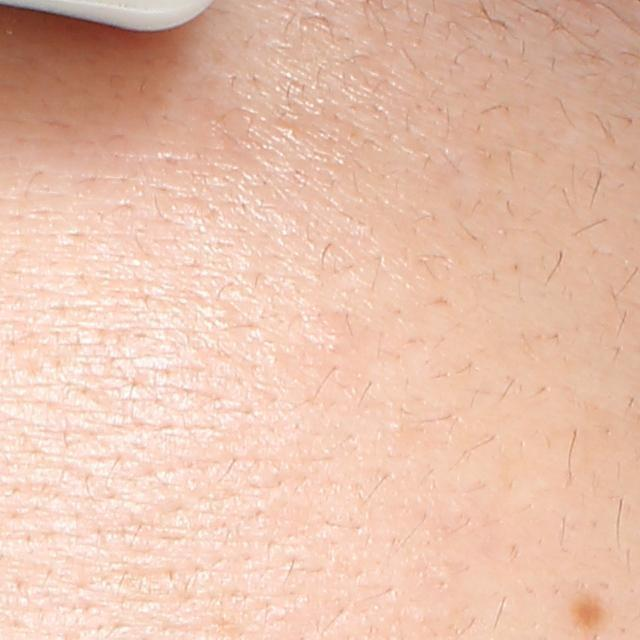nevus: (570, 591, 609, 634)
